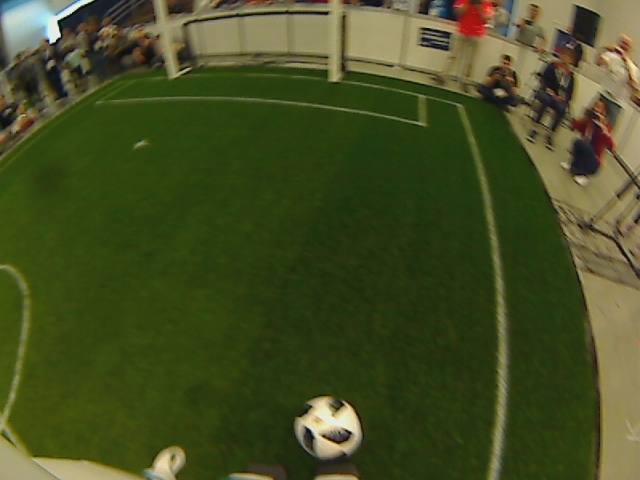ball: (292, 396, 363, 461)
